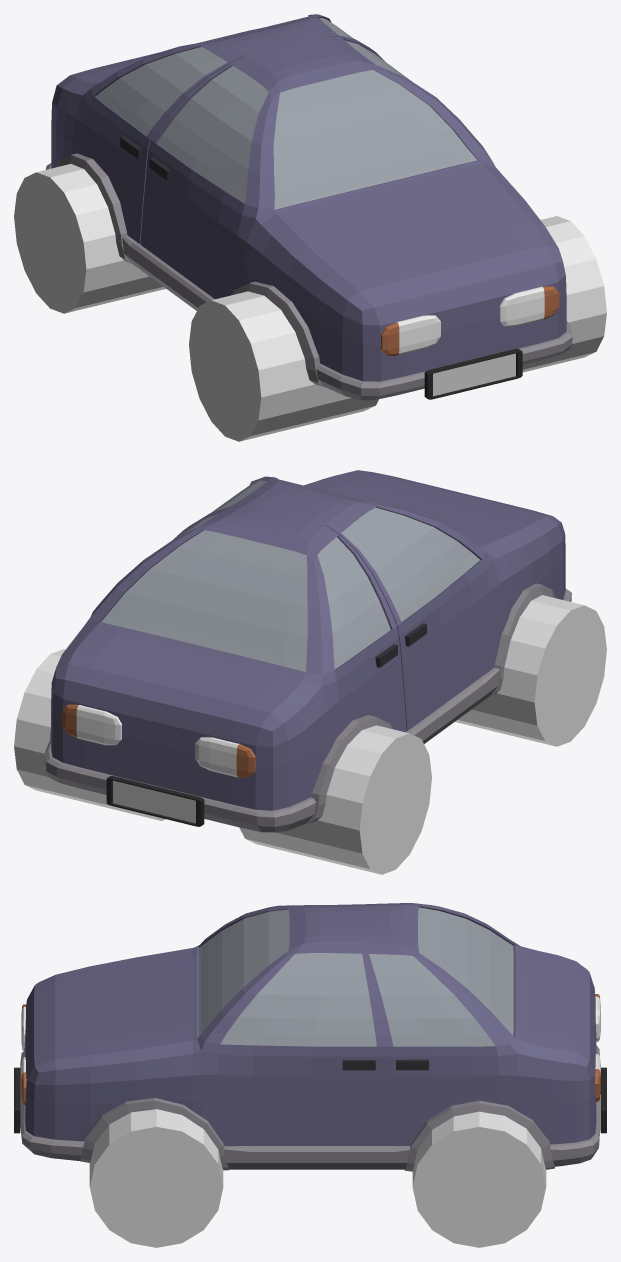
The model's file is car3.fbx.
3 renders of one model, top to bottom at view 1: azimuth 30°, elevation 25°; view 2: azimuth 150°, elevation 25°; view 3: azimuth 270°, elevation 25°, orthographic. The views are drawn at different scales.
Visible parts, largest first — view 1: Cube, Cylinder.002, Cylinder.003, Cylinder, Cube.001, Cube.004, Cube.003, Cylinder.006, Cylinder.007; view 2: Cube, Cylinder.003, Cylinder.002, Cylinder.001, Cube.002, Cube.006, Cube.005, Cylinder.007, Cylinder.006; view 3: Cube, Cylinder, Cylinder.001, Cylinder.005, Cylinder.004, Cube.001.
Boxes of the visible parts, x1=… form: Cube: x1=45, y1=14, x2=572, y2=400; Cylinder.002: x1=189, y1=291, x2=378, y2=441; Cylinder.003: x1=14, y1=164, x2=165, y2=313; Cylinder: x1=522, y1=216, x2=606, y2=372; Cube.001: x1=424, y1=348, x2=522, y2=399; Cube.004: x1=380, y1=315, x2=440, y2=355; Cube.003: x1=499, y1=286, x2=559, y2=326; Cylinder.006: x1=231, y1=281, x2=323, y2=386; Cylinder.007: x1=55, y1=153, x2=130, y2=263; Cube: x1=44, y1=470, x2=571, y2=832; Cylinder.003: x1=239, y1=725, x2=431, y2=874; Cylinder.002: x1=455, y1=595, x2=606, y2=746; Cylinder.001: x1=14, y1=649, x2=165, y2=820; Cube.002: x1=106, y1=776, x2=204, y2=826; Cube.006: x1=195, y1=737, x2=255, y2=777; Cube.005: x1=62, y1=704, x2=122, y2=745; Cylinder.007: x1=307, y1=715, x2=392, y2=823; Cylinder.006: x1=491, y1=583, x2=555, y2=695; Cube: x1=20, y1=903, x2=600, y2=1169; Cylinder: x1=89, y1=1109, x2=223, y2=1247; Cylinder.001: x1=412, y1=1111, x2=546, y2=1247; Cylinder.005: x1=404, y1=1100, x2=554, y2=1171; Cylinder.004: x1=80, y1=1098, x2=229, y2=1170; Cube.001: x1=14, y1=1067, x2=20, y2=1133.
Bounding box in the file's own units: 552 × 409 × 888.
